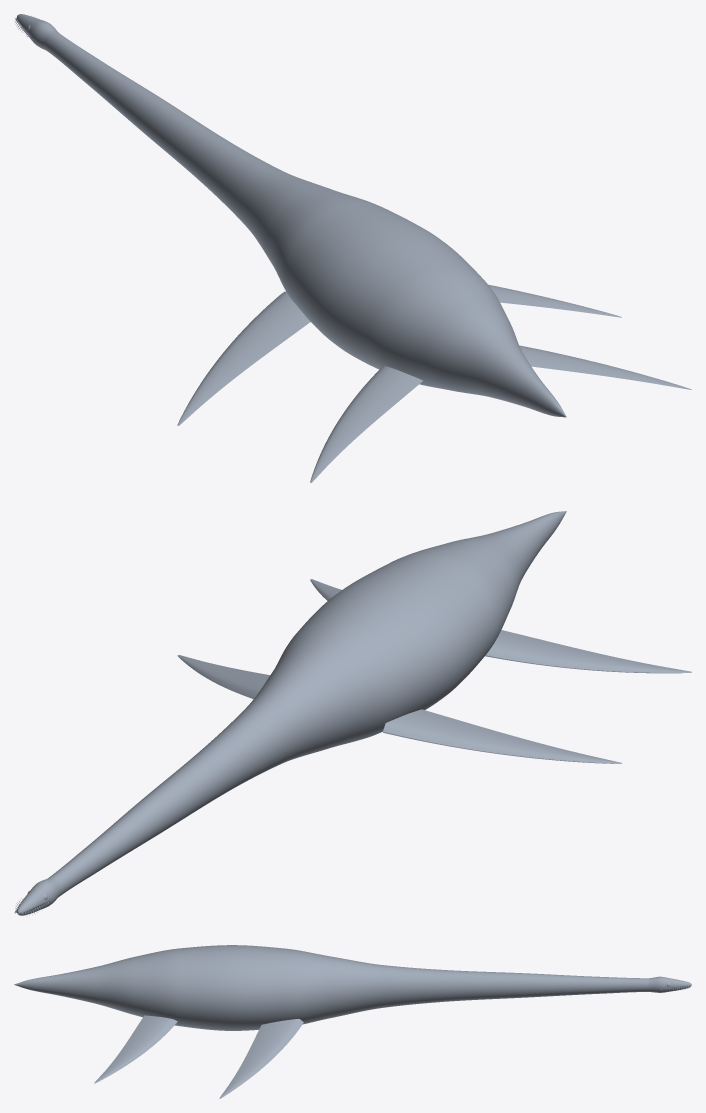
Rendered from plesiosaur.glb.
3 renders of one model, top to bottom at view 1: azimuth 30°, elevation 25°; view 2: azimuth 150°, elevation 25°; view 3: azimuth 270°, elevation 25°, orthographic. The views are drawn at different scales.
Parts seen in each view (by area): view 1: plesiosaur; view 2: plesiosaur; view 3: plesiosaur.
Boxes of the visible parts, x1,y1,x2,y2 form: plesiosaur: (14,14,691,482); plesiosaur: (14,511,691,915); plesiosaur: (14,945,691,1098).
Bounding box in the file's own units: 4.22 × 1.19 × 9.01.
